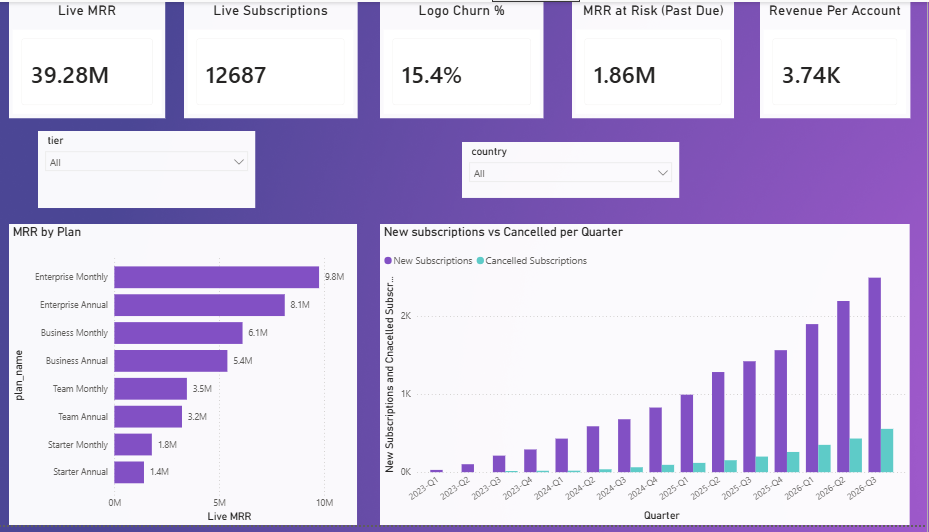

What the dashboard file says about the page in this screenshot:
{"tool":"powerbi","page":{"name":"Overview","canvas":[1280,720],"ordinal":1},"visuals":[{"type":"cardVisual","title":"Live MRR","fields":{"Data":["Measures (2).Live MRR"]},"box":[16.8,0,215,159.6],"z":0},{"type":"cardVisual","title":"Live Subscriptions","fields":{"Data":["Measures (2).Live Subs"]},"box":[257,0,238.5,159.6],"z":1000},{"type":"cardVisual","title":"Logo Churn %","fields":{"Data":["Measures (2).Logo Churn %"]},"box":[527.5,0,225.1,159.6],"z":2000},{"type":"cardVisual","title":"MRR at Risk (Past Due)","fields":{"Data":["Measures (2).Past Due MRR"]},"box":[791.2,0,223.4,159.6],"z":3000},{"type":"cardVisual","title":"Revenue Per Account","fields":{"Data":["Measures (2).ARPA"]},"box":[1049.9,0,206.6,159.6],"z":4000},{"type":"clusteredBarChart","title":"MRR by Plan","fields":{"Y":["Measures (2).Live MRR"],"Category":["plans.plan_name"]},"box":[16.8,305.7,478.7,414.9],"z":5000},{"type":"clusteredColumnChart","title":"New subscriptions vs Cancelled per Quarter","fields":{"Category":["v_quarterly_movement.q"],"Y":["Sum(v_quarterly_movement.new_subs)","Sum(v_quarterly_movement.cancels)"]},"box":[527.5,305.7,729,414.9],"z":6000},{"type":"slicer","fields":{"Values":["plans.tier"]},"box":[57.1,178.1,299,105.8],"z":7000},{"type":"slicer","fields":{"Values":["accounts.country"]},"box":[640,193.2,299,77.3],"z":8000}]}

Visuals, with their boxes in screenshot pixels (x1, y1, x2, y2), scaled from the page's 1280x720 canvas onto the 929x532 screenshot:
"Live MRR" cardVisual: (12,0,168,118)
"Live Subscriptions" cardVisual: (187,0,360,118)
"Logo Churn %" cardVisual: (383,0,546,118)
"MRR at Risk (Past Due)" cardVisual: (574,0,736,118)
"Revenue Per Account" cardVisual: (762,0,912,118)
"MRR by Plan" clusteredBarChart: (12,226,360,531)
"New subscriptions vs Cancelled per Quarter" clusteredColumnChart: (383,226,912,531)
slicer - plans.tier: (41,132,258,210)
slicer - accounts.country: (464,143,682,200)
